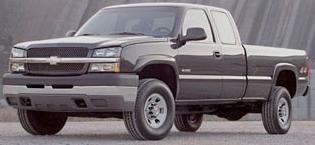front_view: (8, 43, 126, 110)
headlight: (83, 43, 122, 72)
side_glass: (184, 6, 240, 49)
